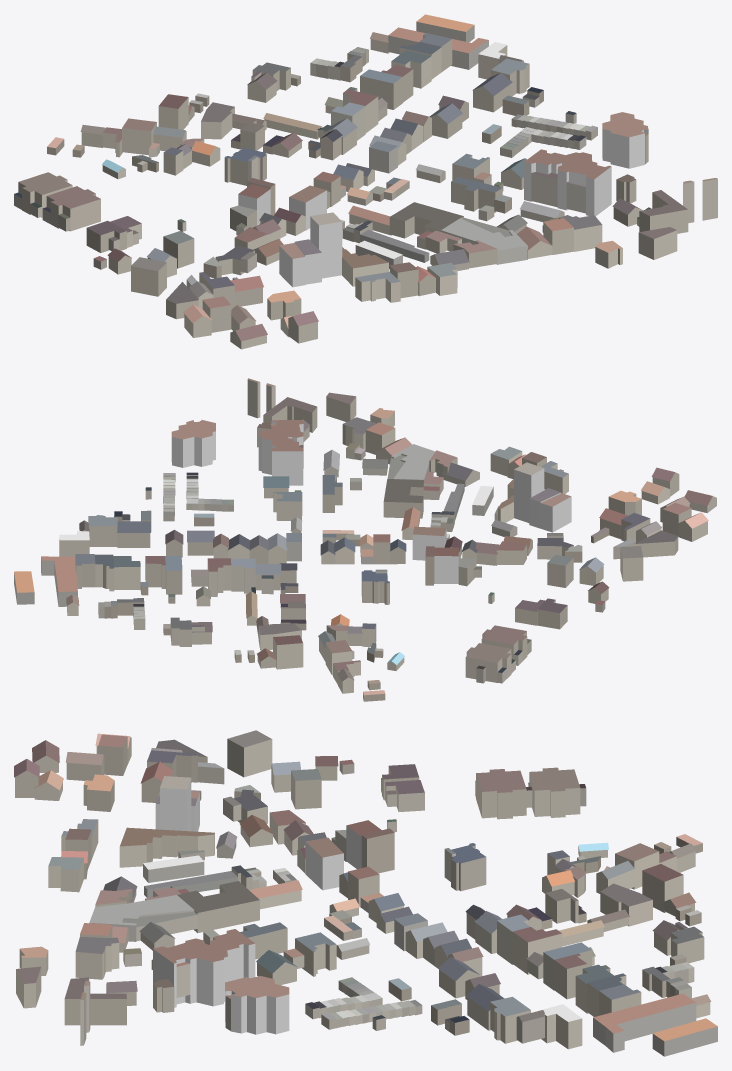
3 views of the same model, one above another, from view 1: azimuth 30°, elevation 25°; view 2: azimuth 150°, elevation 25°; view 3: azimuth 270°, elevation 25° (orthographic). The views are drawn at different scales.
Visible parts, largest first — view 1: tuile; view 2: tuile; view 3: tuile.
Boxes of the visible parts, x1,y1,x2,y2 form: tuile: (14,14,717,349); tuile: (14,378,716,701); tuile: (14,730,717,1056).
Bounding box in the file's own units: 262 × 38.4 × 261.
